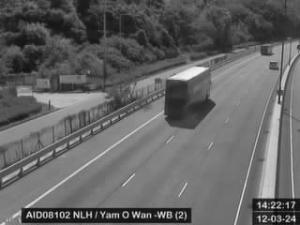truck: (164, 65, 212, 119)
vehicle: (260, 44, 272, 54), (270, 61, 278, 70)
